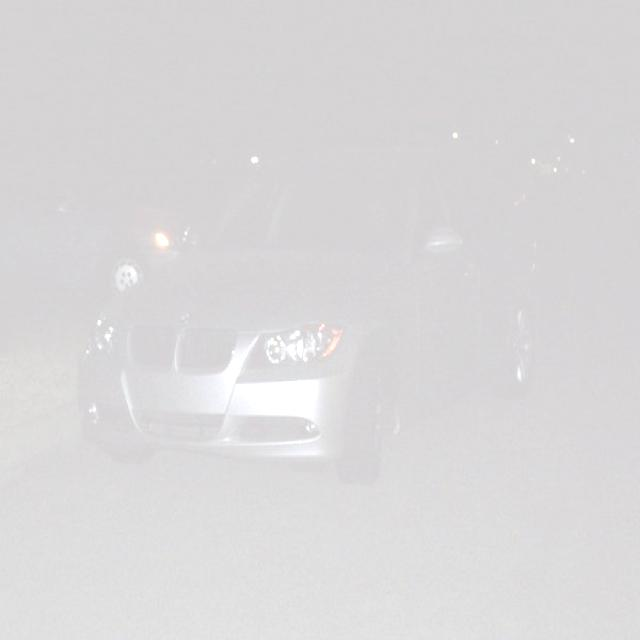Car: (72, 139, 536, 484)
